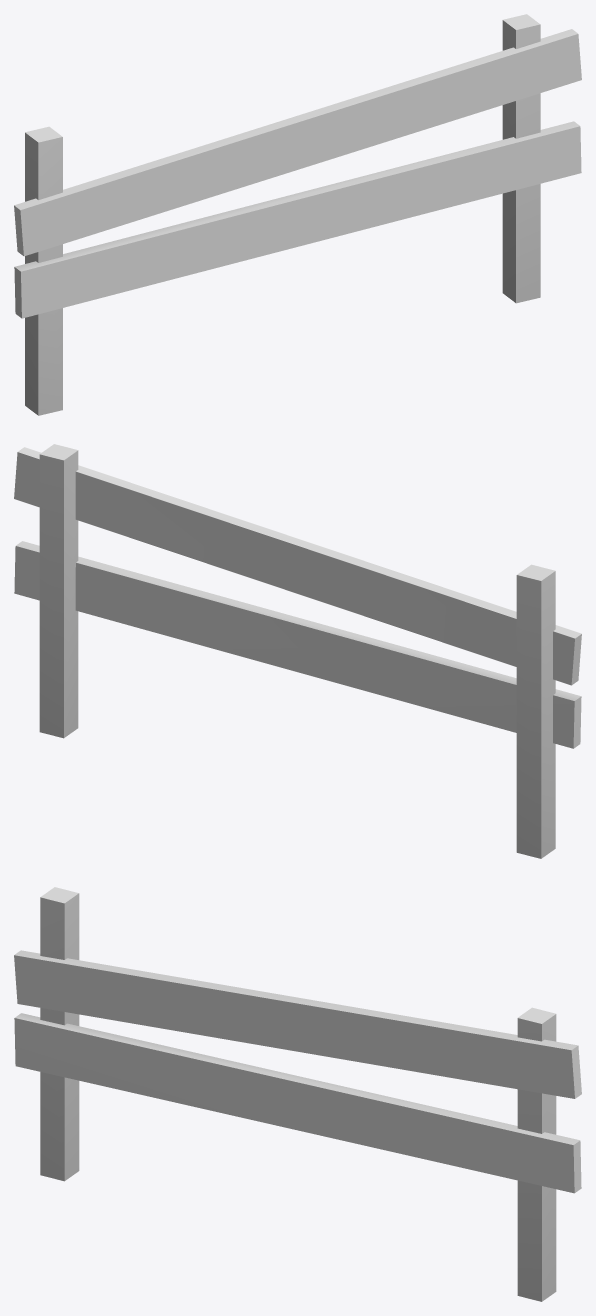
Rendered from fence_008.glb.
The picture shows the model from 3 angles, top to bottom: view 1: azimuth 30°, elevation 25°; view 2: azimuth 150°, elevation 25°; view 3: azimuth 330°, elevation 25°; orthographic projection.
Parts seen in each view (by area): view 1: fence_008.033; view 2: fence_008.033; view 3: fence_008.033.
Part boxes in pixels (x1,y1,x2,y2): fence_008.033: (14,14,581,415); fence_008.033: (14,444,581,858); fence_008.033: (14,887,581,1301).
Bounding box in the file's own units: 2.35 × 1.1 × 0.1664.
1 material, 1 textured.
